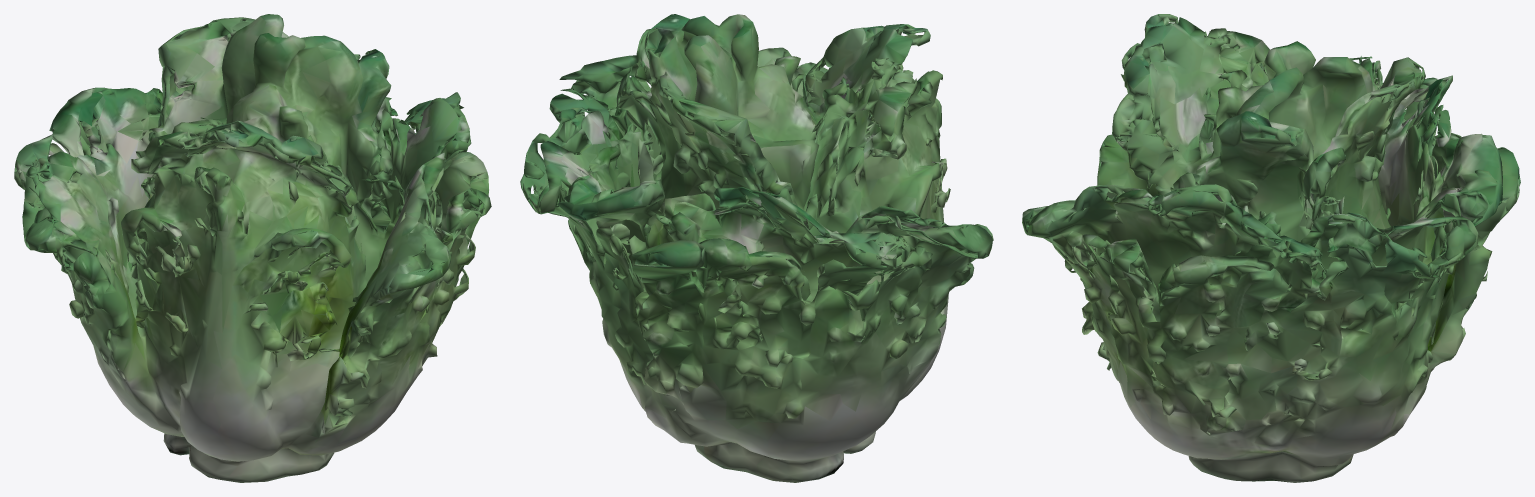
Rendered from baicai.glb.
3 views of the same model, side by side, from view 1: azimuth 30°, elevation 25°; view 2: azimuth 150°, elevation 25°; view 3: azimuth 270°, elevation 25° (orthographic). The views are drawn at different scales.
Parts seen in each view (by area): view 1: tripo_node_ecc737a4-6c8a-4eb1-9e82-3213425cce2e; view 2: tripo_node_ecc737a4-6c8a-4eb1-9e82-3213425cce2e; view 3: tripo_node_ecc737a4-6c8a-4eb1-9e82-3213425cce2e.
Boxes of the visible parts, left/top/right/bottom form: tripo_node_ecc737a4-6c8a-4eb1-9e82-3213425cce2e: left=14, top=14, right=491, bottom=482; tripo_node_ecc737a4-6c8a-4eb1-9e82-3213425cce2e: left=520, top=14, right=993, bottom=482; tripo_node_ecc737a4-6c8a-4eb1-9e82-3213425cce2e: left=1022, top=14, right=1520, bottom=482.
Size of the model in its own units: 1 by 0.9234 by 0.9864.
Materials: 1 (1 with a texture image).
